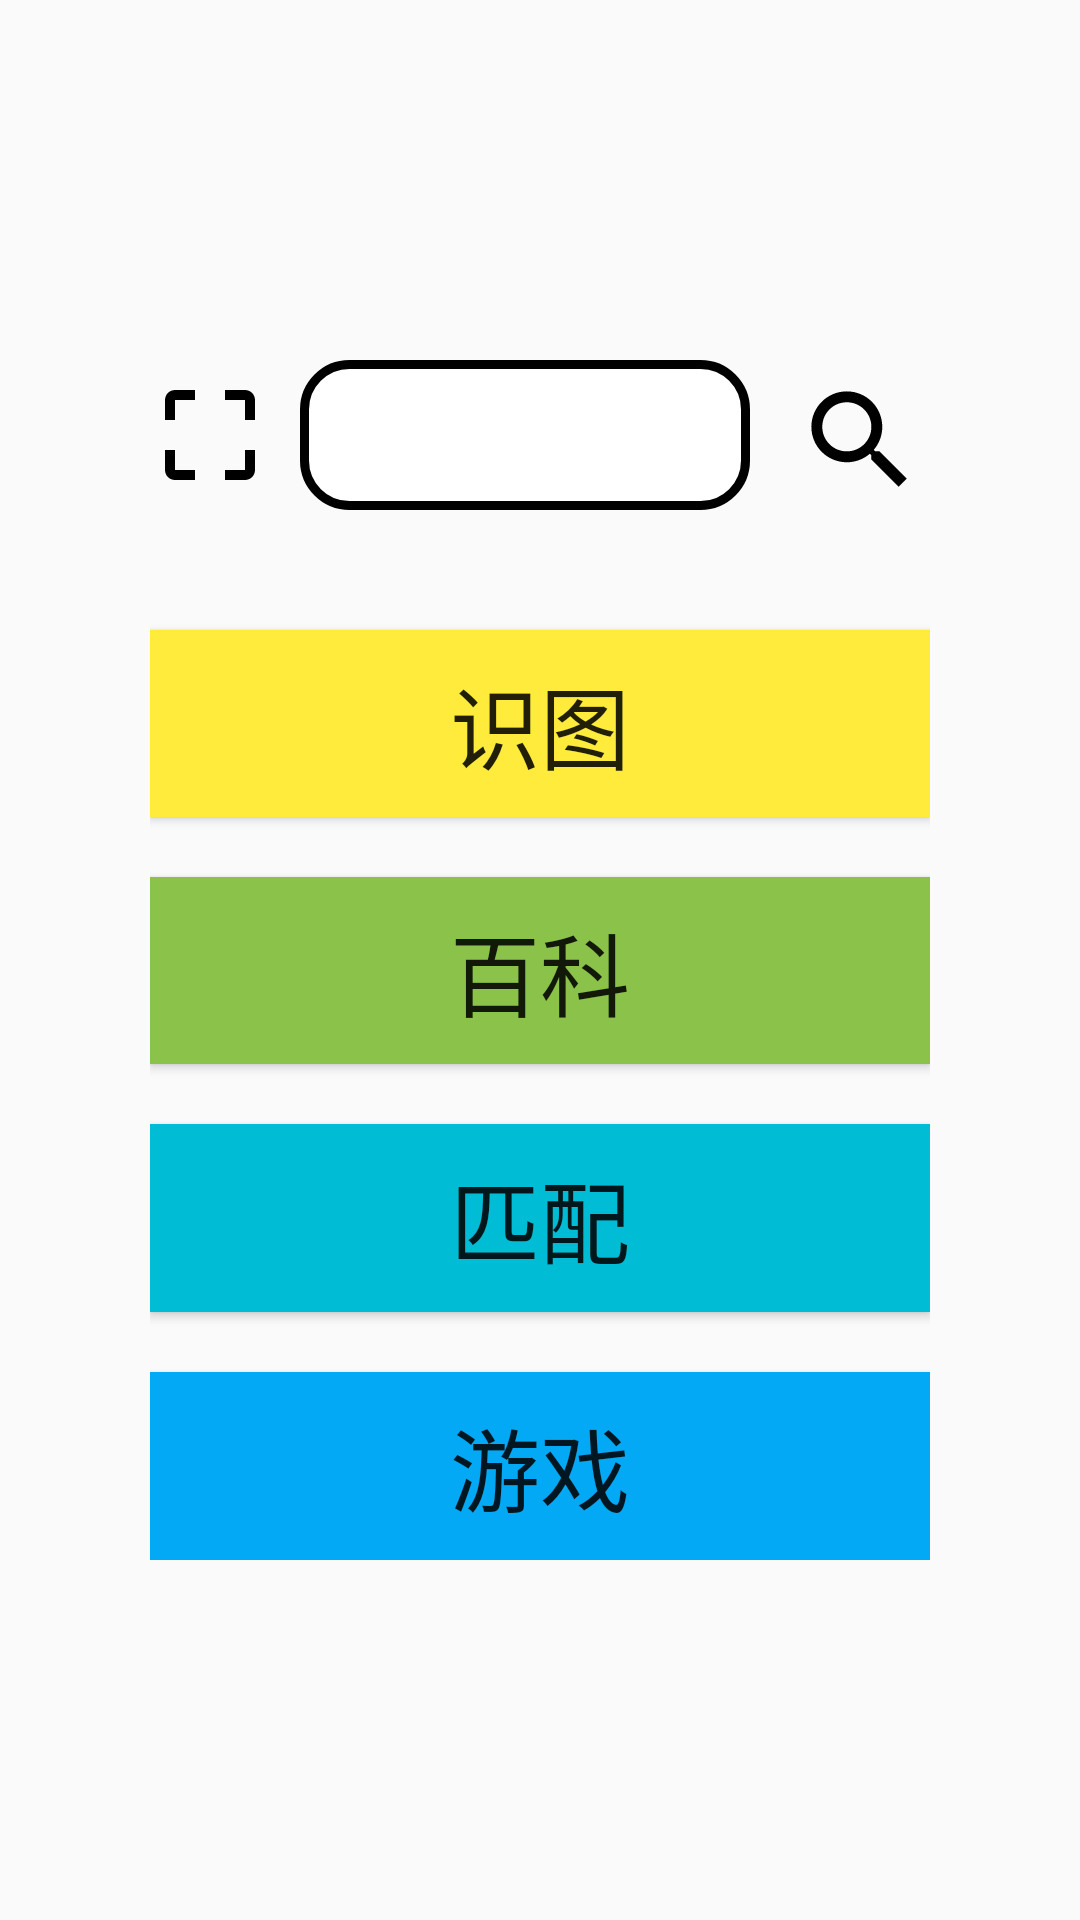

Locate icon controls on the screen. Image size 1080*1920, boxes as bbox=(x1, y1, x2, y2).
crop free: bbox=(165, 390, 255, 480)
search: bbox=(811, 391, 907, 487)
